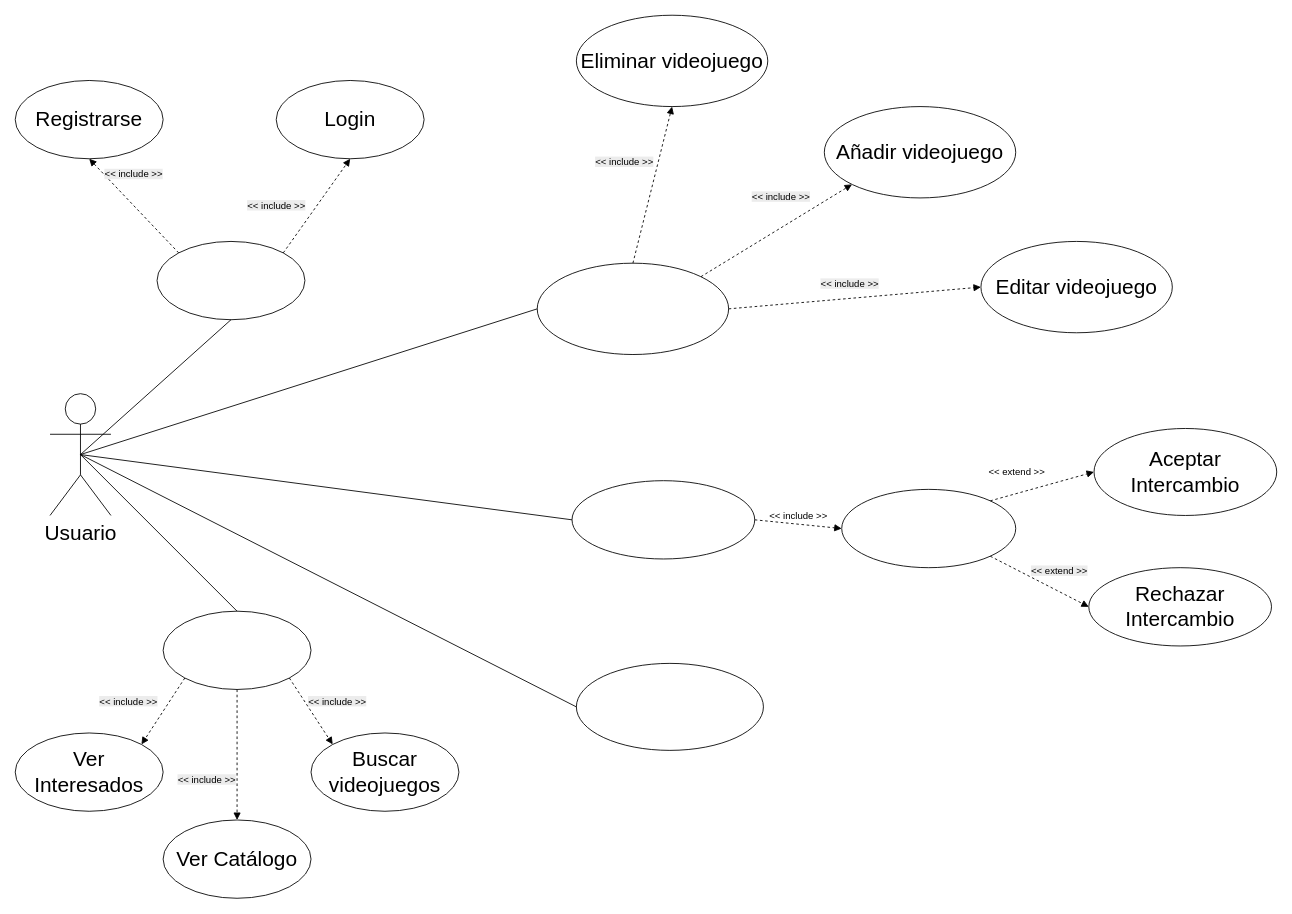
Some shapes in this 1292 by 914 pixel diagram are drawn without their labels. The box of each missing label's shape, as (x1, y1, x2, y2) in pixels:
Chat entre Usuarios: (576, 663, 763, 750)
Explorar Videojuegos: (162, 610, 311, 689)
Gestion De Cuentras: (156, 241, 305, 320)
Gestion De Videojuegos: (536, 262, 729, 355)
Proponer Intercambio: (571, 480, 755, 559)
Ver Intercambio: (841, 489, 1016, 568)
